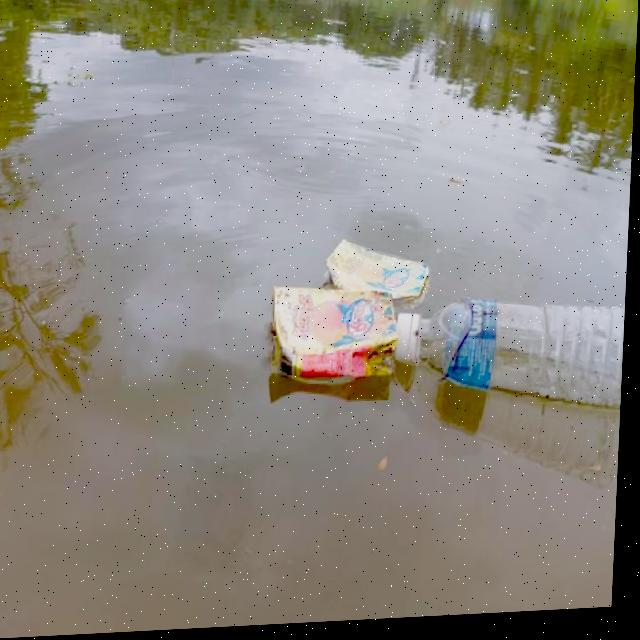paper: (233, 279, 404, 418), (315, 239, 434, 315)
waterbottle: (392, 294, 629, 439)
